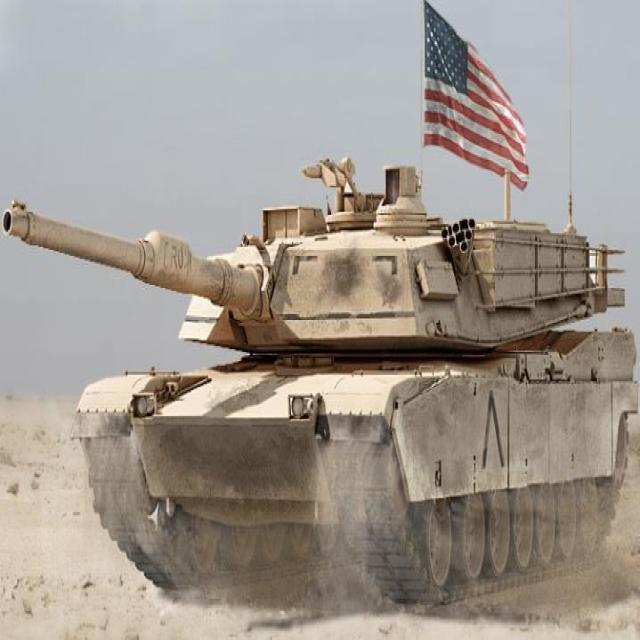Tanks: (74, 137, 636, 597)
